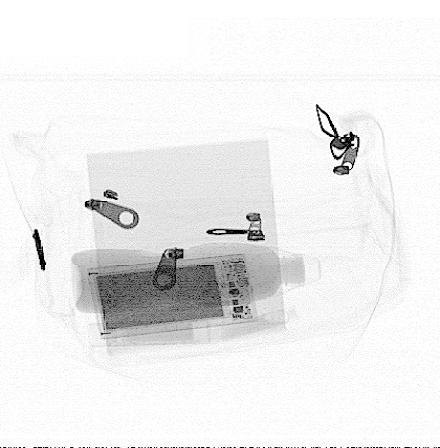Powerbank: (86, 252, 258, 340)
